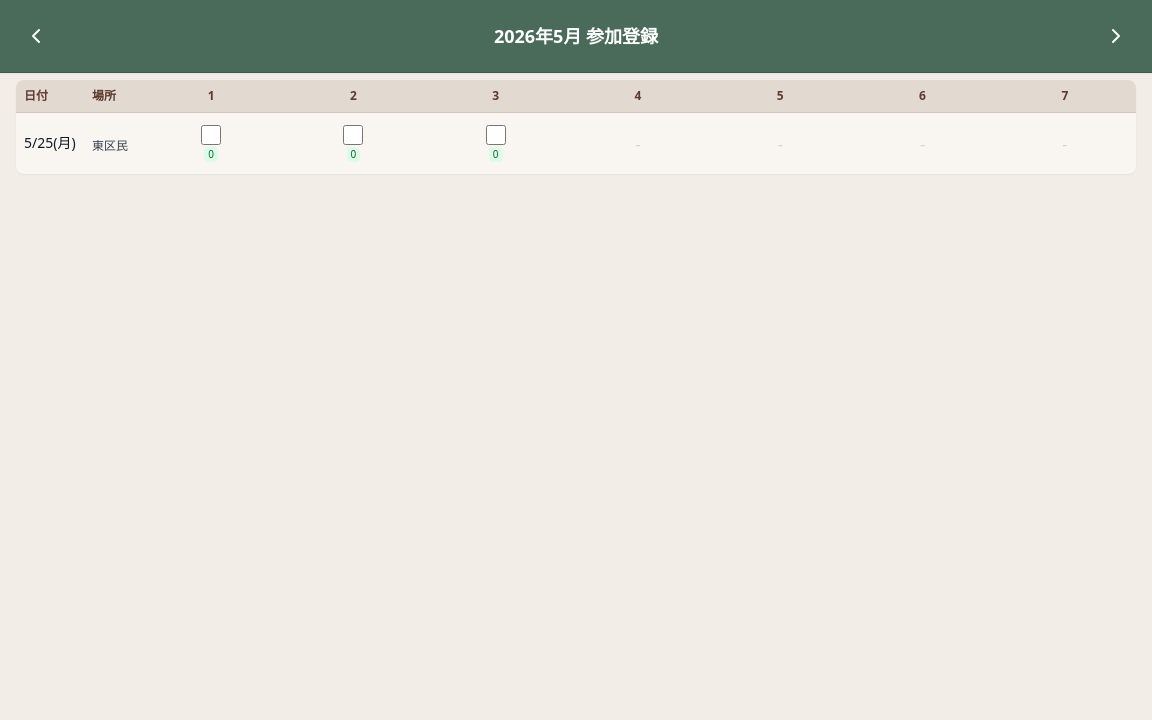
Test case: PracticeParticipation 保存フロー（SaveProgressOverlay） › 保存失敗: error オーバーレイにサーバーメッセージ表示 →「閉じる」で idle、チェック状態を保持
The width and height of the screenshot is (1152, 720).
Click the 1st checkbox labelled "0" at (211, 135), box left=201, top=125, right=221, bottom=145
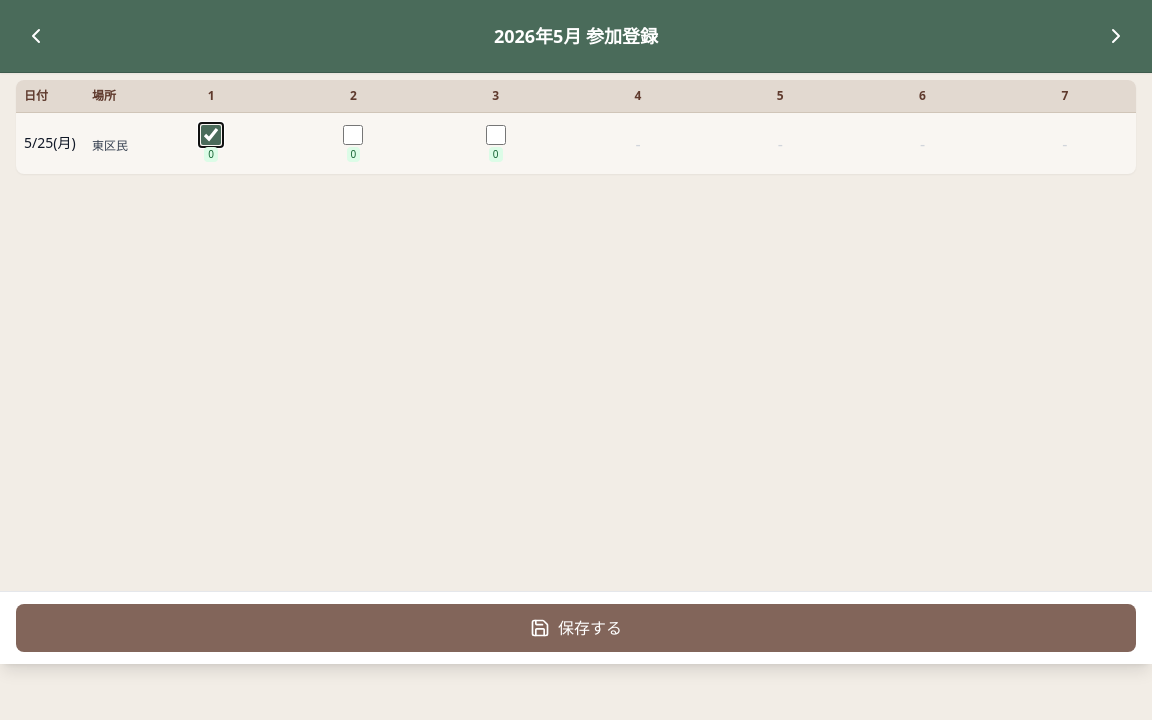
Now the 1st checkbox labelled "0" is checked, box left=201, top=125, right=221, bottom=145
Click the button "保存する" at (576, 628), box left=16, top=604, right=1136, bottom=652
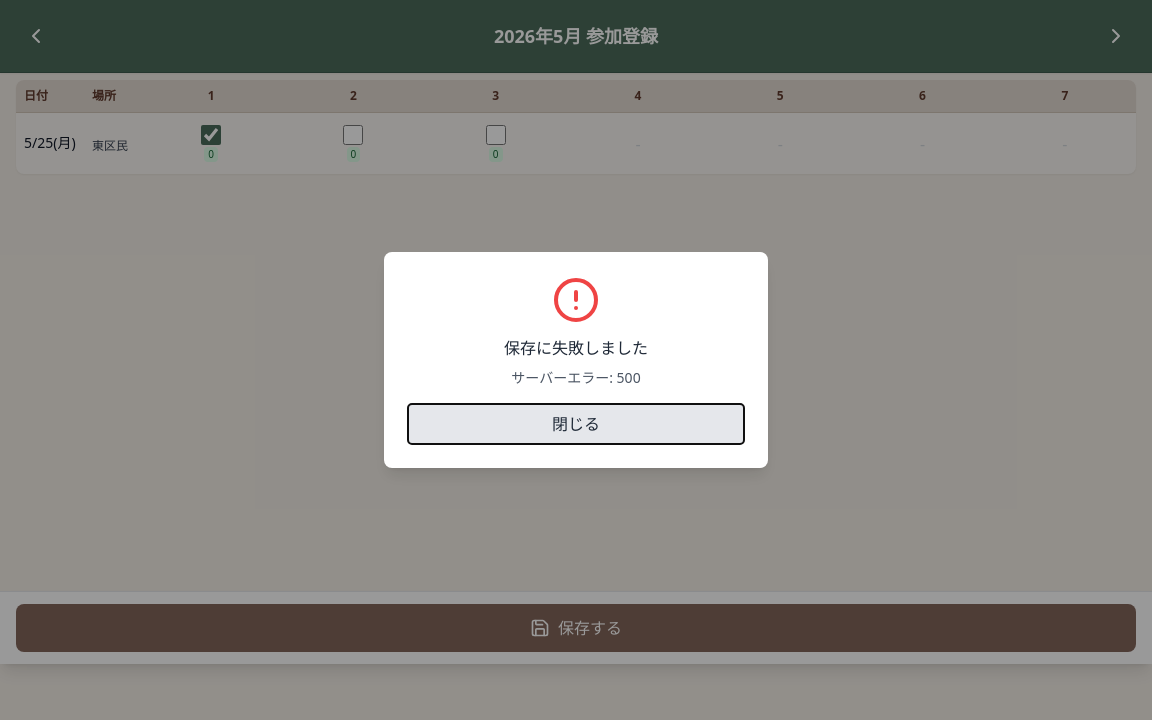
Now the text "保存に失敗しました" is shown, box left=504, top=336, right=648, bottom=360
Now the text "サーバーエラー: 500" is shown, box left=511, top=368, right=641, bottom=388
Click the button "閉じる" at (576, 424), box left=408, top=404, right=744, bottom=444
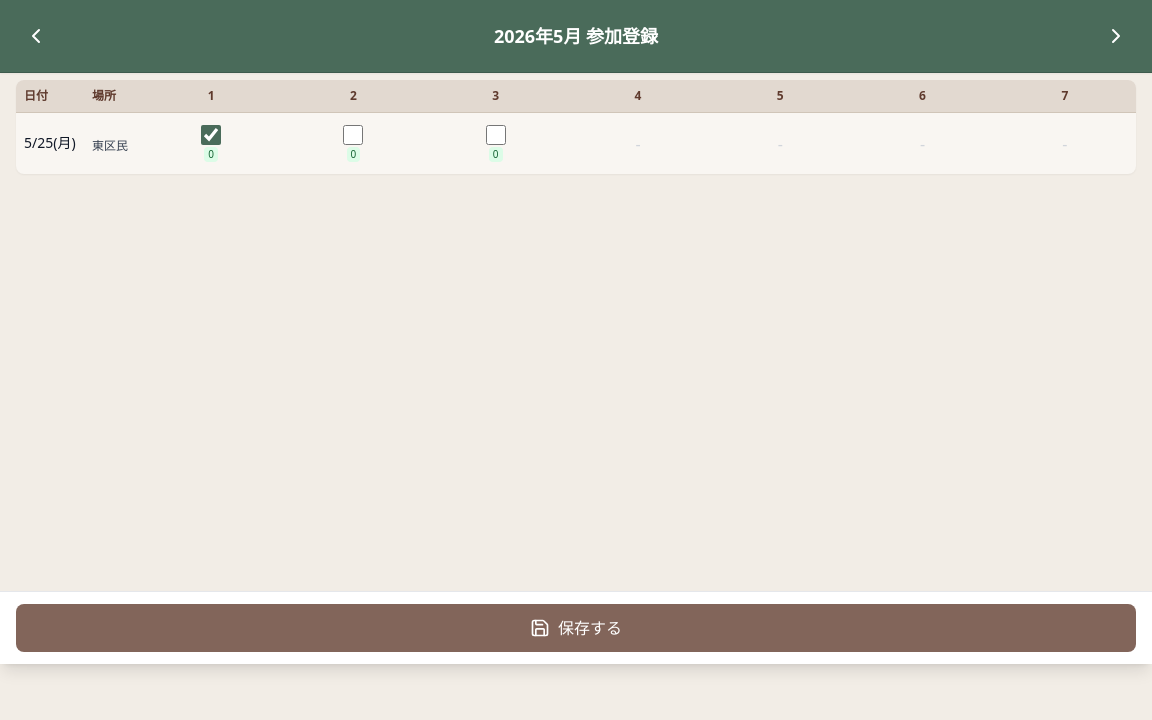
Now the 1st checkbox labelled "0" is checked, box left=201, top=125, right=221, bottom=145
Now the text "保存に失敗しました" is gone
